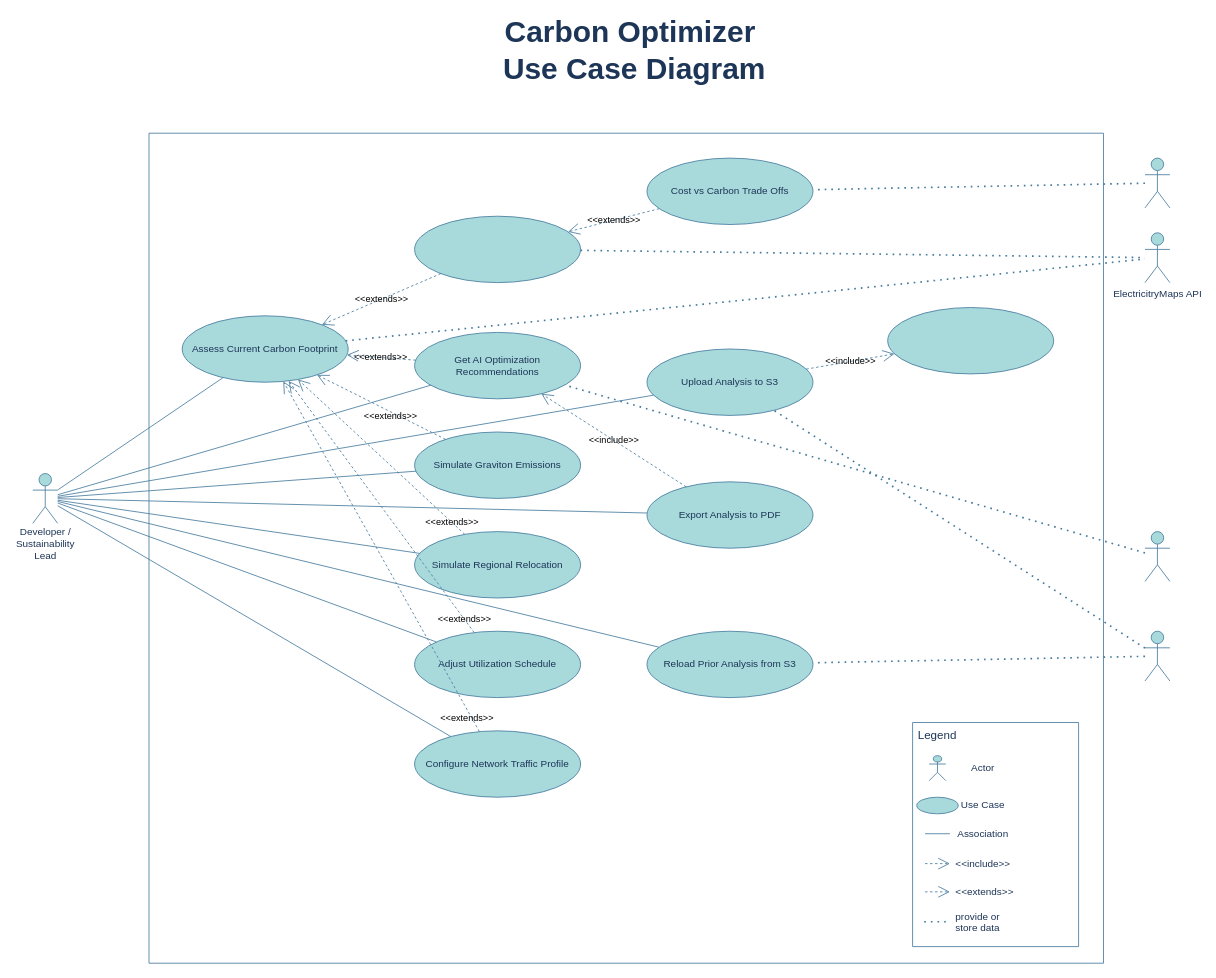
The diagram is 1216 pixels wide and 978 high, and some of its shapes have lost their labels. Here are the shapes that lost their labels. From the top down, the centre of each, then its label:
At (1157,182): "AWS Pricing API".
At (497,249): "Compare Regional Emissions".
At (970,340): "Redact Secrets from Plan".
At (1157,556): "OpenRouter API".
At (1157,655): "AWS S3".
